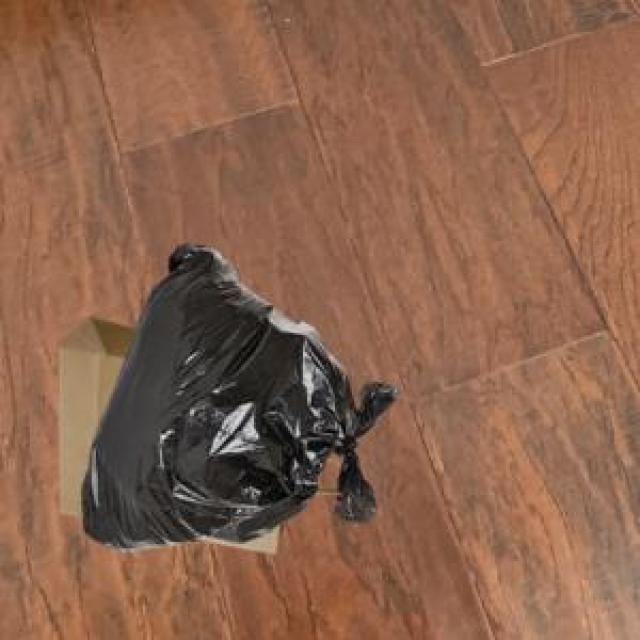miscellaneous trash: (77, 239, 395, 546)
paper: (53, 314, 278, 548)
